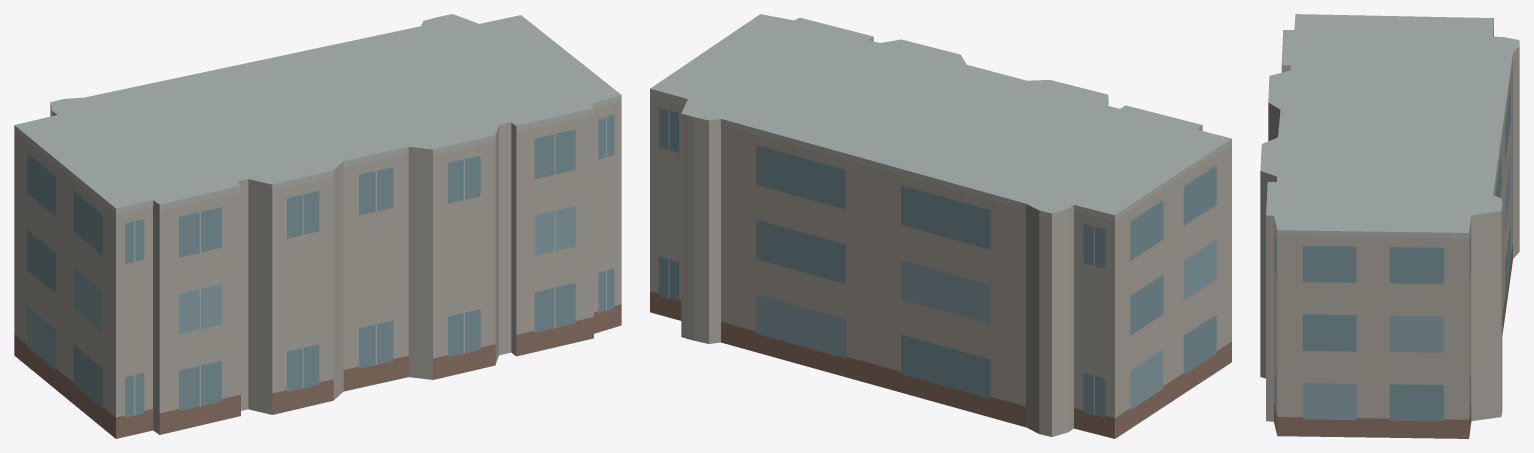
File: survey-upis-32531629.glb
The picture shows the model from 3 angles, left to right: view 1: azimuth 30°, elevation 25°; view 2: azimuth 150°, elevation 25°; view 3: azimuth 270°, elevation 25°; orthographic projection. The views are drawn at different scales.
Parts seen in each view (by area): view 1: survey-upis-32531629.tmp; view 2: survey-upis-32531629.tmp; view 3: survey-upis-32531629.tmp.
Boxes of the visible parts, x1,y1,x2,y2 form: survey-upis-32531629.tmp: (14,14,621,438); survey-upis-32531629.tmp: (650,14,1231,438); survey-upis-32531629.tmp: (1260,14,1519,438).
Bounding box in the file's own units: 20.88 × 9.15 × 10.45.
